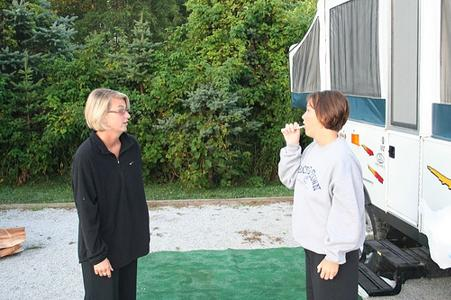person: (279, 90, 365, 300)
